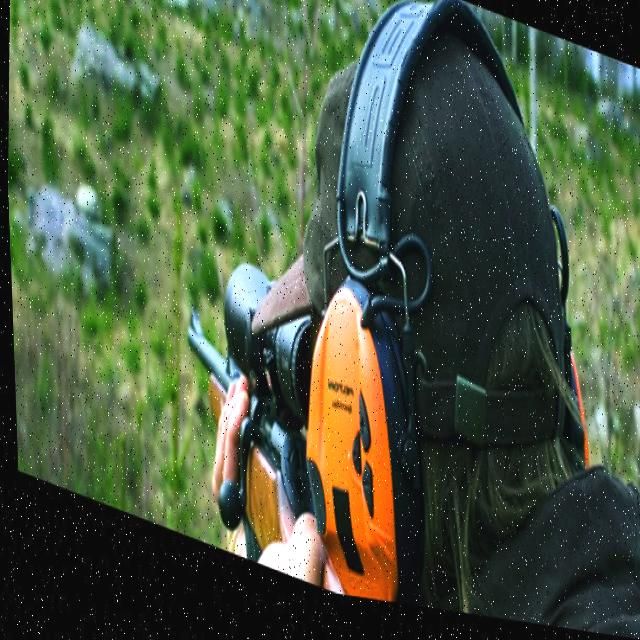Earmuffs: (306, 277, 423, 600)
